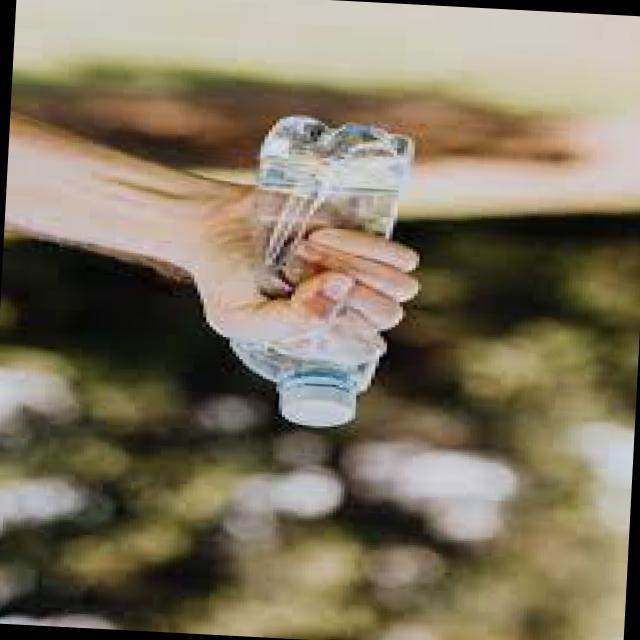defected: (200, 103, 445, 448)
